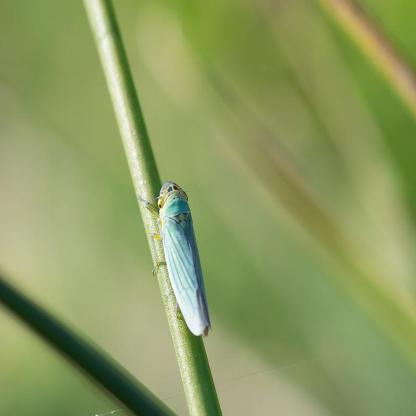Green-Leafhopper: (138, 167, 210, 345)
